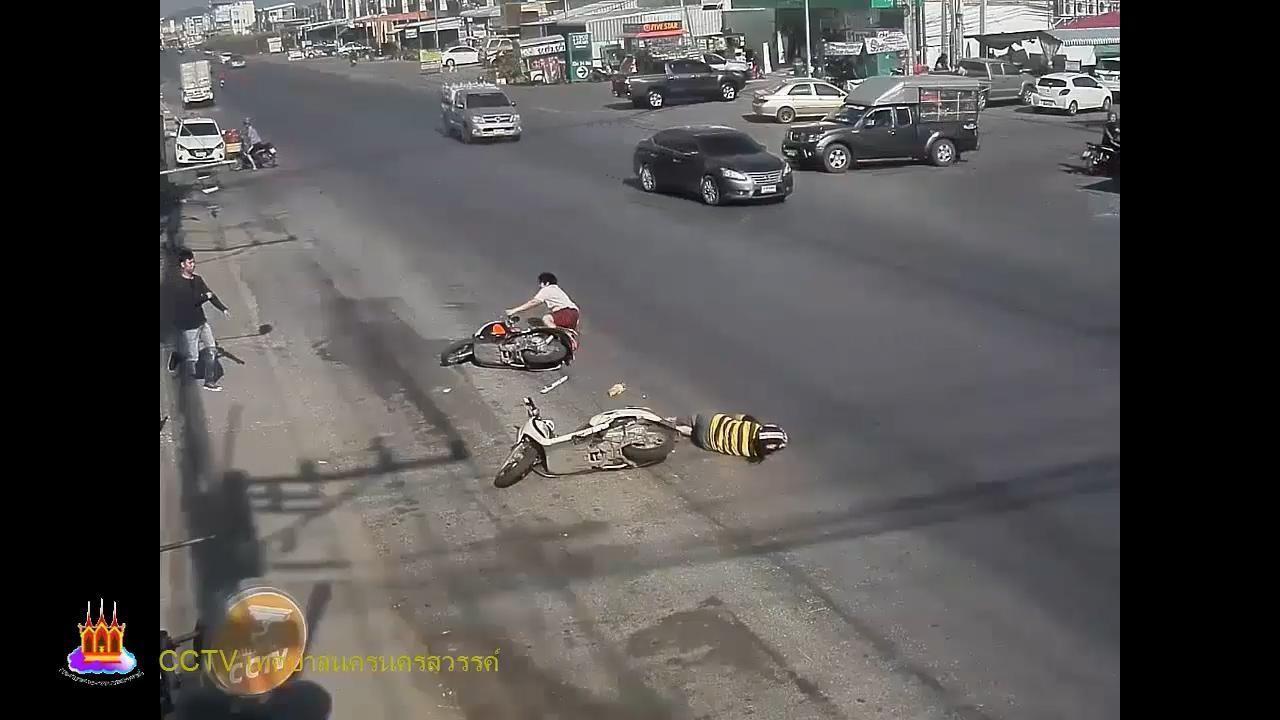accident: (663, 403, 790, 469), (507, 272, 585, 350)
